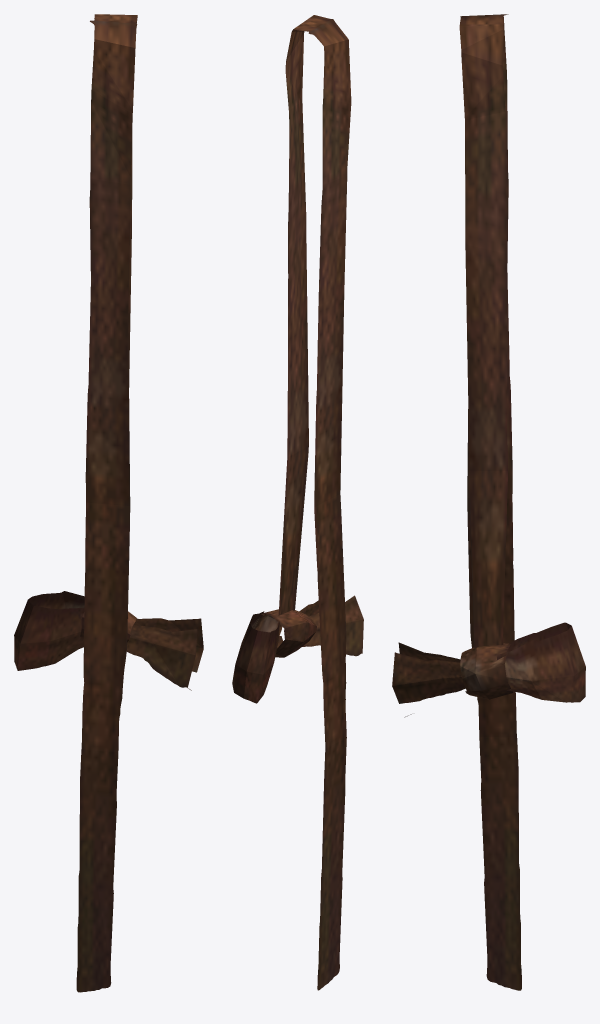
Rendered from bg_anh_mirrorv_febricline02_sm_phs.FBX.
3 views of the same model, side by side, from view 1: azimuth 90°, elevation 25°; view 2: azimuth 150°, elevation 25°; view 3: azimuth 270°, elevation 25° (orthographic). The views are drawn at different scales.
Parts seen in each view (by area): view 1: bg_anh_mirrorv_febricline02_sm_phs; view 2: bg_anh_mirrorv_febricline02_sm_phs; view 3: bg_anh_mirrorv_febricline02_sm_phs.
Boxes of the visible parts, x1=… form: bg_anh_mirrorv_febricline02_sm_phs: x1=14, y1=14, x2=203, y2=992; bg_anh_mirrorv_febricline02_sm_phs: x1=232, y1=15, x2=363, y2=990; bg_anh_mirrorv_febricline02_sm_phs: x1=392, y1=14, x2=585, y2=990.
Size of the model in its own units: 22.54 by 243 by 42.55.
